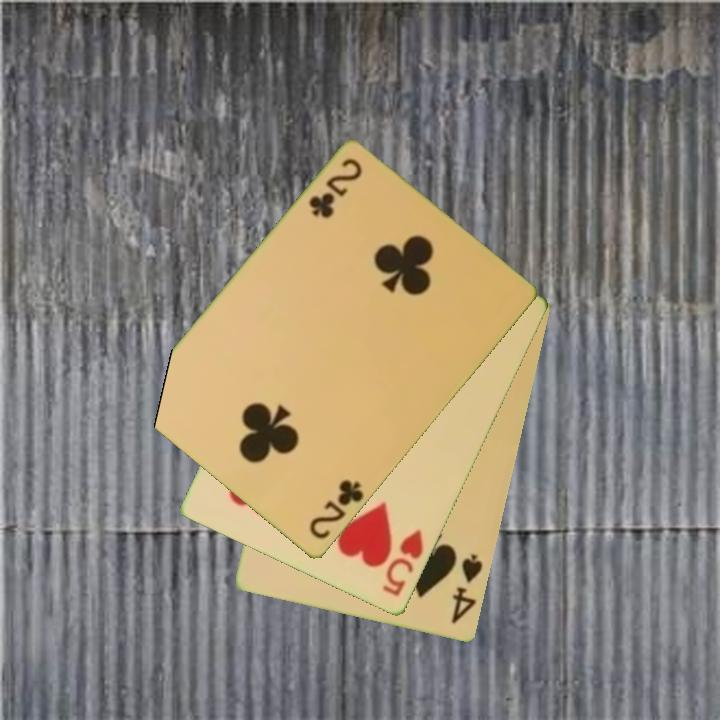2c: (305, 476, 367, 543), (305, 155, 365, 222)
4s: (448, 550, 486, 627)
5h: (379, 525, 427, 600)
